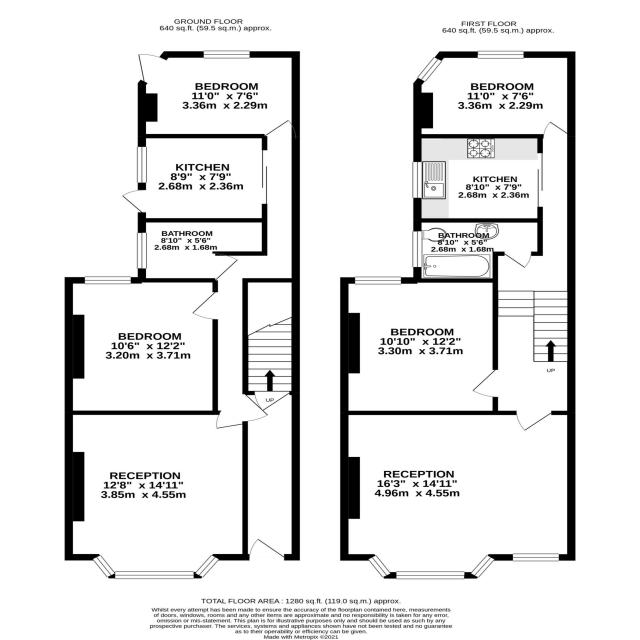DOOR: (465, 364, 499, 401), (186, 288, 218, 324), (242, 390, 274, 425), (514, 410, 557, 434), (136, 50, 167, 83), (260, 117, 299, 143), (247, 536, 286, 561), (211, 251, 239, 284), (539, 116, 576, 140), (213, 409, 248, 433), (118, 188, 146, 217), (498, 251, 536, 271)
ROOM: (340, 411, 575, 580), (63, 409, 249, 580), (340, 277, 498, 415), (64, 278, 218, 414), (413, 51, 577, 139), (137, 50, 300, 138)
WINDOW: (415, 54, 445, 85), (363, 553, 395, 581), (114, 570, 195, 581), (395, 569, 467, 581), (507, 550, 564, 564), (408, 157, 426, 201), (87, 552, 115, 580), (469, 553, 497, 581), (193, 552, 222, 579), (133, 142, 150, 186), (408, 227, 425, 269), (134, 230, 151, 271), (476, 48, 525, 62), (201, 47, 253, 60), (351, 274, 403, 287), (82, 274, 134, 286)
